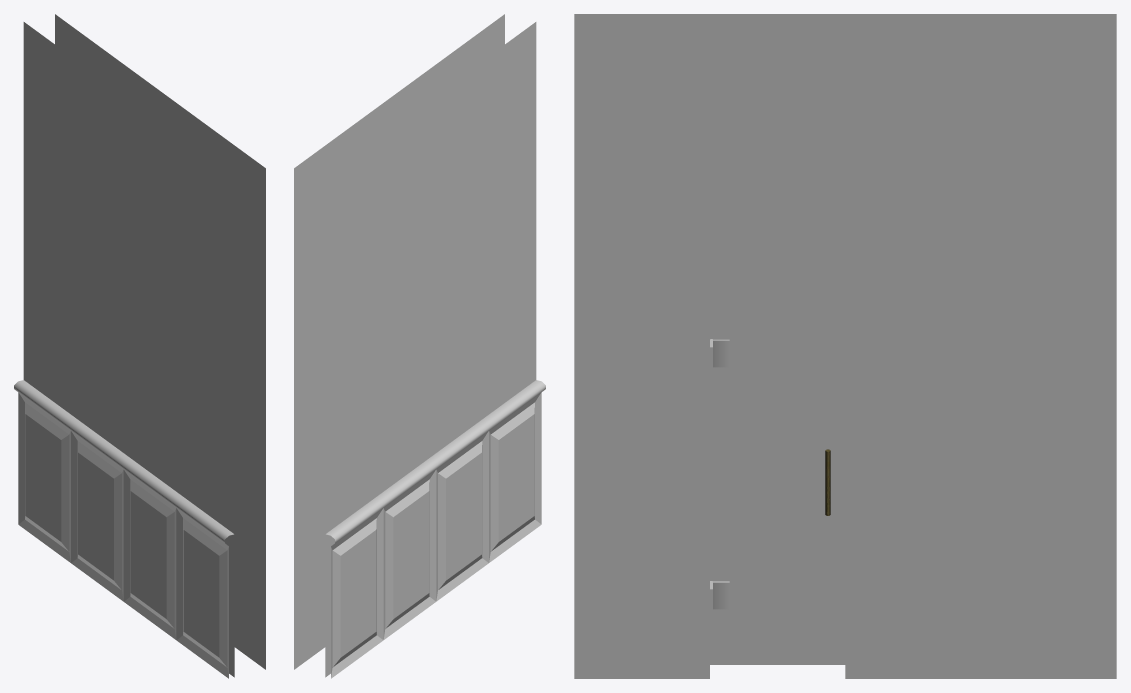
The model's file is wood_panneling_secret_door_01.DAE.
The picture shows the model from 3 angles, left to right: view 1: azimuth 30°, elevation 25°; view 2: azimuth 150°, elevation 25°; view 3: azimuth 270°, elevation 25°; orthographic projection. The views are drawn at different scales.
Parts seen in each view (by area): view 1: wallpaper, wood_wall, backside_wall, wallpaper_door, wood_door; view 2: wallpaper, wood_wall, backside_wall, wallpaper_door, wood_door; view 3: backside_wall, backside_door, wallpaper, hinge_door.
Boxes of the visible parts, bbox=[...] form: wallpaper: bbox=[23, 22, 234, 677]; wood_wall: bbox=[14, 380, 233, 678]; backside_wall: bbox=[55, 14, 265, 669]; wallpaper_door: bbox=[129, 298, 181, 495]; wood_door: bbox=[119, 457, 181, 639]; wallpaper: bbox=[325, 22, 536, 677]; wood_wall: bbox=[326, 380, 545, 678]; backside_wall: bbox=[294, 14, 504, 669]; wallpaper_door: bbox=[430, 259, 483, 456]; wood_door: bbox=[431, 418, 493, 601]; backside_wall: bbox=[574, 33, 1116, 678]; backside_door: bbox=[710, 289, 845, 664]; wallpaper: bbox=[574, 14, 1116, 33]; hinge_door: bbox=[713, 339, 729, 609].
Bounding box in the file's own units: 0.4487 × 5.25 × 4.
